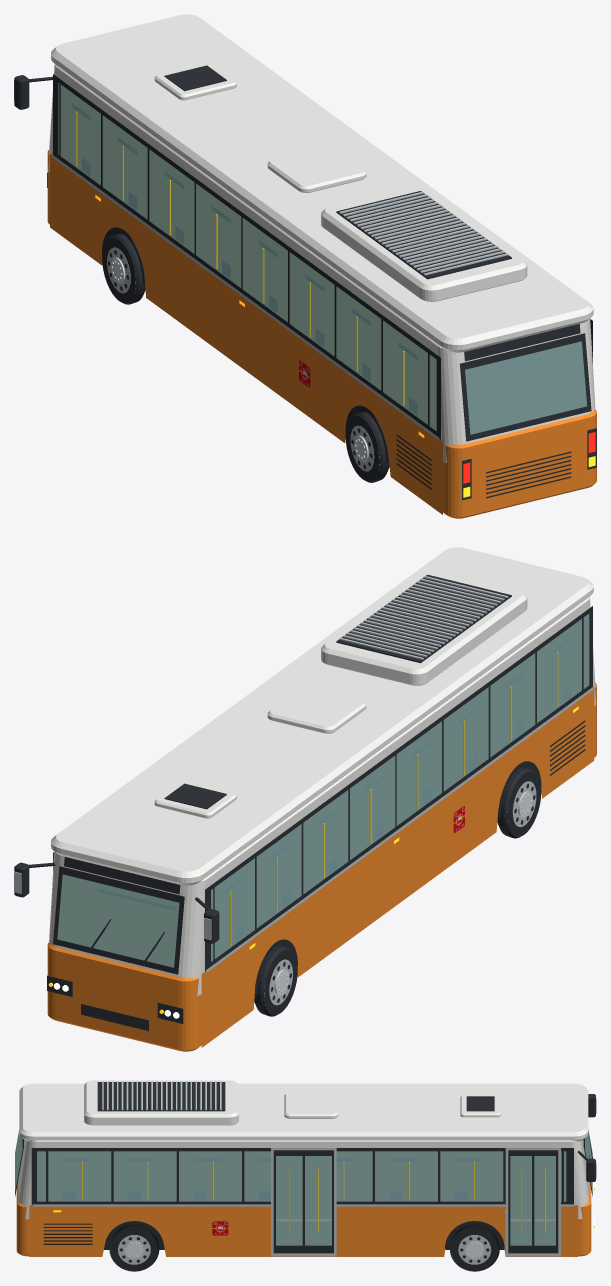
Rendered from sunlight-bus-tcm.glb.
The picture shows the model from 3 angles, top to bottom: view 1: azimuth 30°, elevation 25°; view 2: azimuth 150°, elevation 25°; view 3: azimuth 270°, elevation 25°; orthographic projection. The views are drawn at different scales.
Visible parts, largest first — view 1: TCM; view 2: TCM; view 3: TCM.
Part boxes in pixels (x1,y1,x2,y2): TCM: (14, 14, 596, 518); TCM: (14, 547, 596, 1051); TCM: (15, 1080, 596, 1271).
Bounding box in the file's own units: 3.3 × 3.36 × 11.87.
12 materials, 1 textured.
